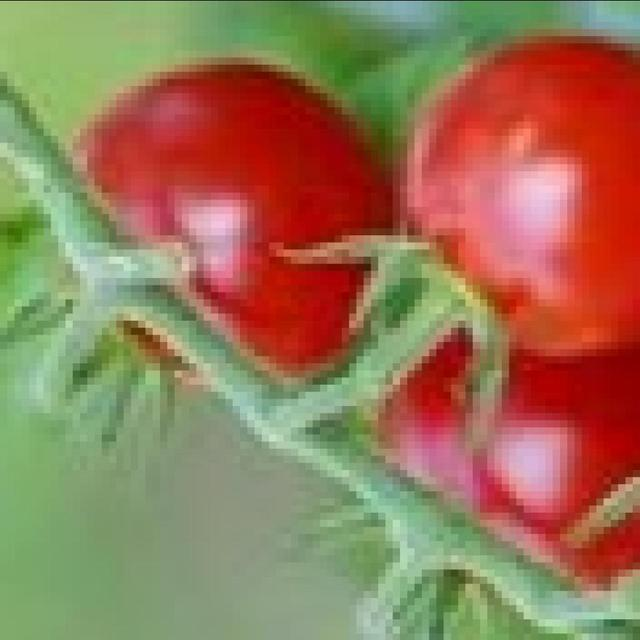Healthy Fruit: (146, 130, 342, 313)
